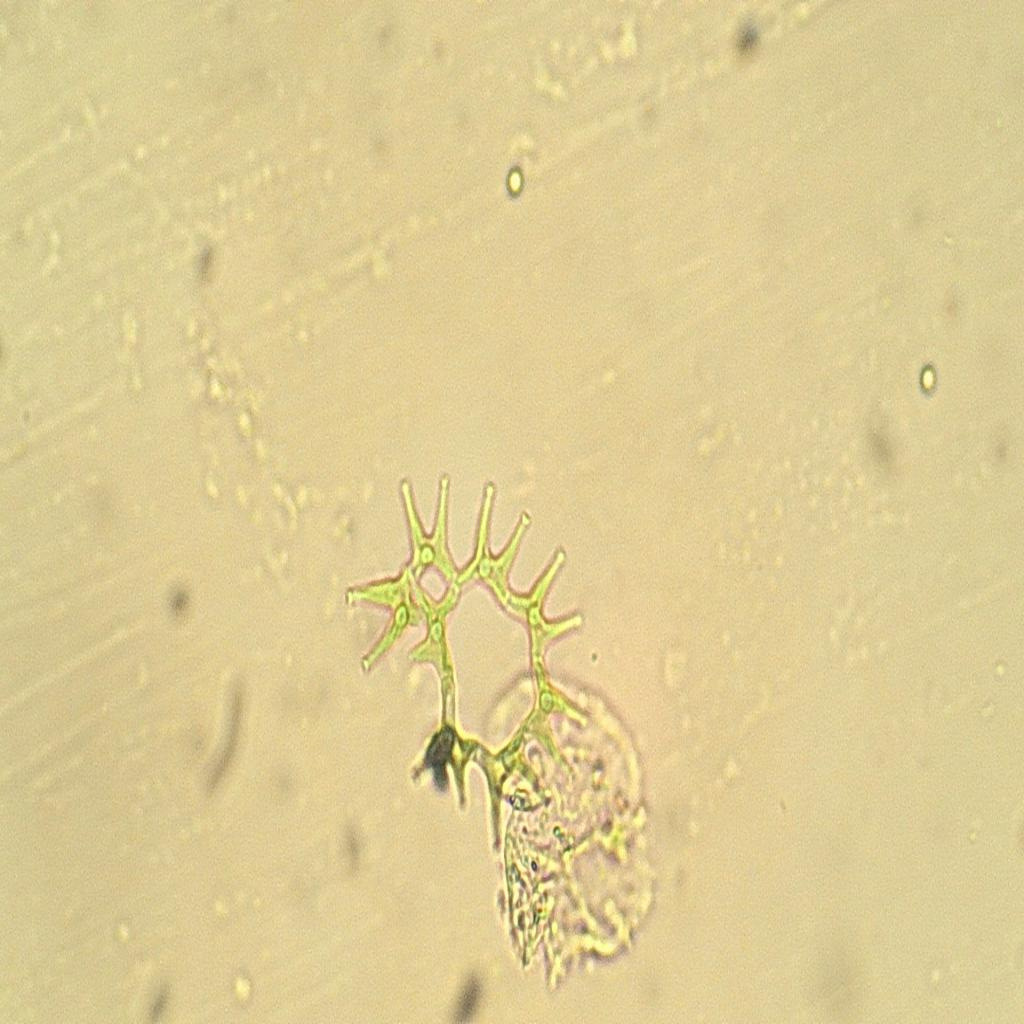Pediastrum_CFI: (340, 450, 594, 857)
